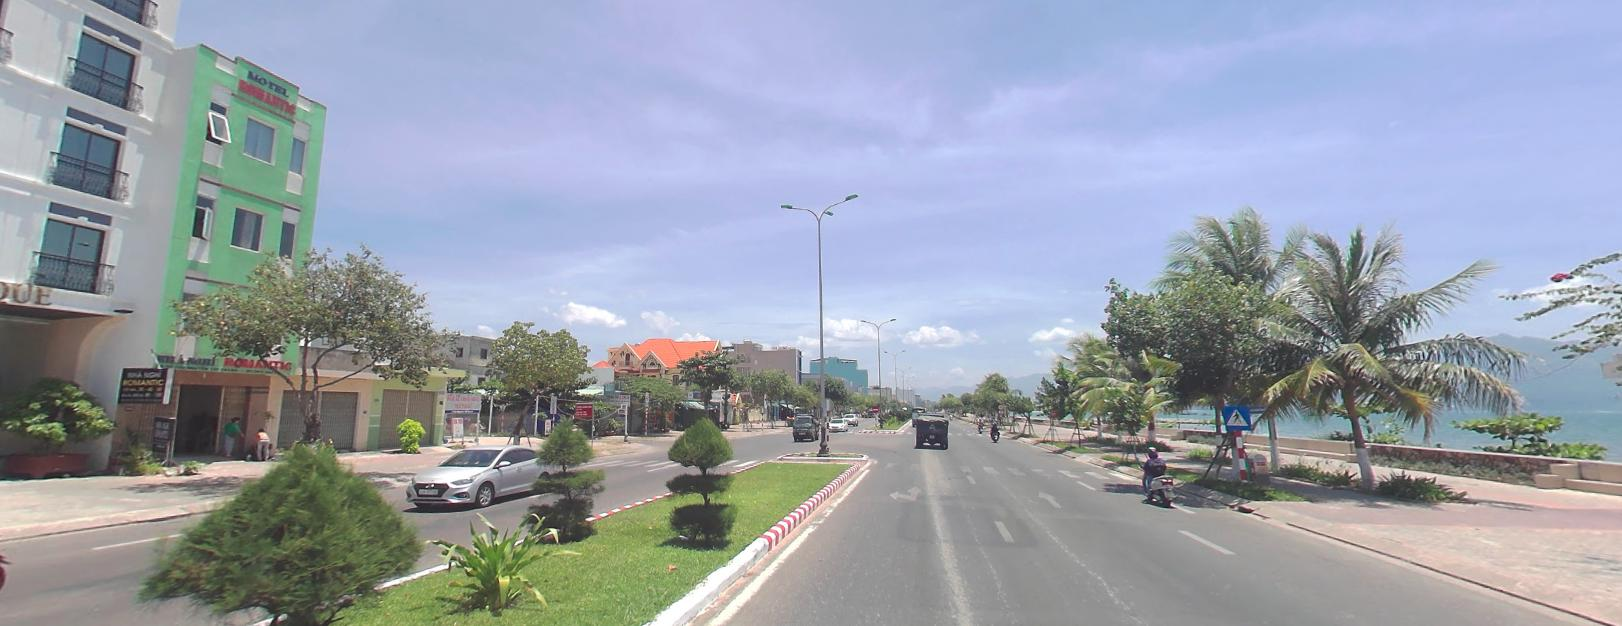Cam nguoc chieu: (872, 403, 879, 410)
